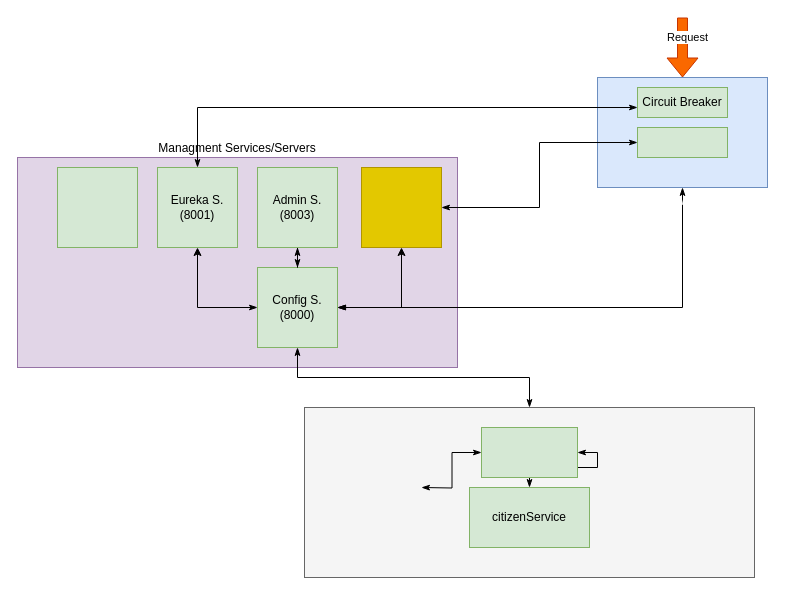
This 785x595 diagram has some shape labels left out. Here are the shapes that lost their labels. From the top down, the box of each, then its label:
(636, 126, 728, 158): Auth.
(56, 166, 138, 248): Zipkin Server
(360, 166, 442, 248): Auth S.
(480, 426, 578, 478): Parent S.
